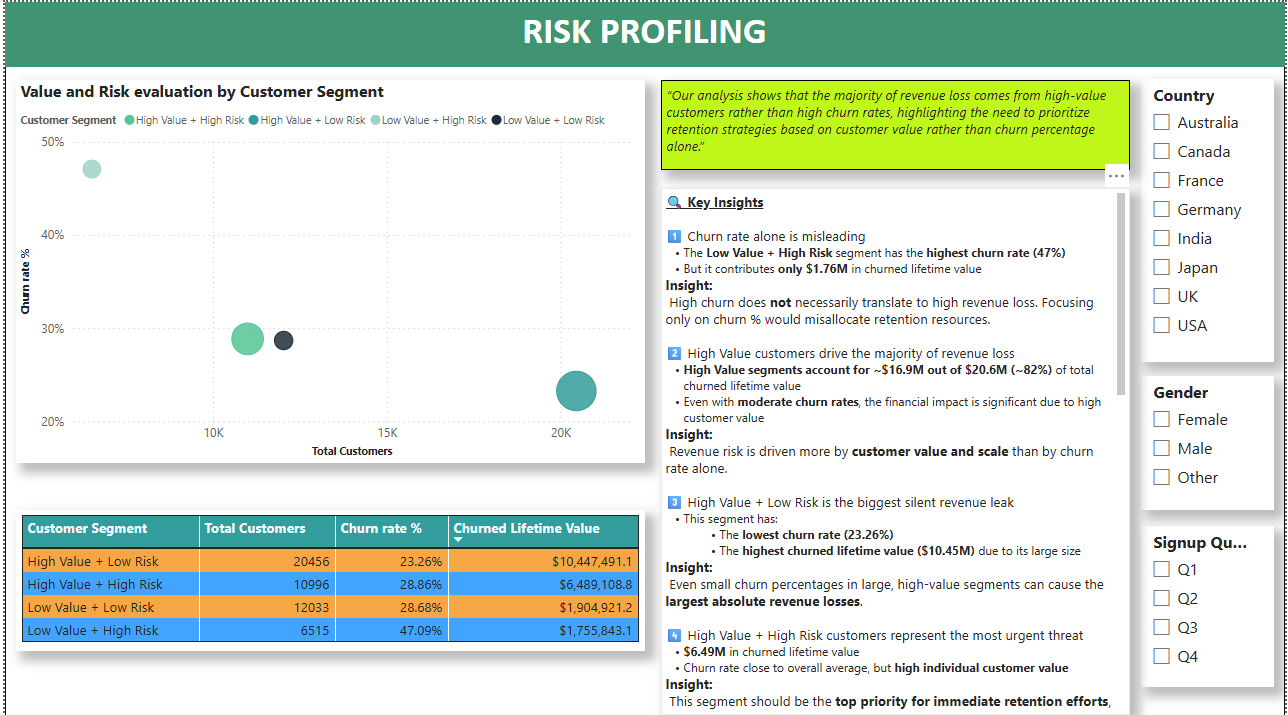

This screenshot's page, from the dashboard's own definition file:
{"tool":"powerbi","page":{"name":"Risk Profiling","canvas":[1280,720],"ordinal":7},"visuals":[{"type":"textbox","box":[0,0,1280,65],"z":0},{"type":"scatterChart","title":"Value and Risk evaluation by Customer Segment","fields":{"Category":["ecommerce_customer_churn_dataset.Customer Segment"],"X":["ecommerce_customer_churn_dataset.Total Customers"],"Y":["ecommerce_customer_churn_dataset.Churn rate %"],"Size":["ecommerce_customer_churn_dataset.Churned Lifetime Value"],"Series":["ecommerce_customer_churn_dataset.Customer Segment"]},"box":[10.8,78.3,629.7,382.9],"z":1000},{"type":"tableEx","fields":{"Values":["ecommerce_customer_churn_dataset.Customer Segment","ecommerce_customer_churn_dataset.Total Customers","ecommerce_customer_churn_dataset.Churn rate %","ecommerce_customer_churn_dataset.Churned Lifetime Value"]},"box":[10.8,508.3,629.7,141],"z":2000},{"type":"slicer","fields":{"Values":["ecommerce_customer_churn_dataset.Country"]},"box":[1136,77,133,232],"z":3000},{"type":"slicer","fields":{"Values":["ecommerce_customer_churn_dataset.Gender"]},"box":[1136,327,133,107],"z":4000},{"type":"slicer","fields":{"Values":["ecommerce_customer_churn_dataset.Signup_Quarter"]},"box":[1136,450,133,129],"z":5000},{"type":"textbox","box":[656,78,469,90],"z":6000},{"type":"textbox","box":[656,186,469,527],"z":7000}]}

Visuals, with their boxes in screenshot pixels (x1, y1, x2, y2), scaled from the page's 1280x720 canvas onto the 1288x715 screenshot:
textbox: (left=0, top=0, right=1287, bottom=65)
"Value and Risk evaluation by Customer Segment" scatterChart: (left=11, top=78, right=645, bottom=458)
tableEx - ecommerce_customer_churn_dataset.Customer Segment x ecommerce_customer_churn_dataset.Total Customers: (left=11, top=505, right=645, bottom=645)
slicer - ecommerce_customer_churn_dataset.Country: (left=1143, top=76, right=1277, bottom=307)
slicer - ecommerce_customer_churn_dataset.Gender: (left=1143, top=325, right=1277, bottom=431)
slicer - ecommerce_customer_churn_dataset.Signup_Quarter: (left=1143, top=447, right=1277, bottom=575)
textbox: (left=660, top=77, right=1132, bottom=167)
textbox: (left=660, top=185, right=1132, bottom=708)
